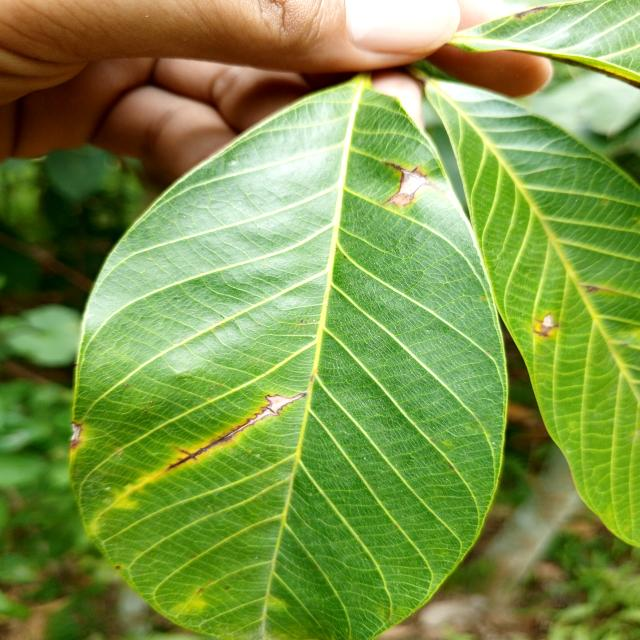Corynespora: (167, 392, 307, 469), (382, 162, 447, 206), (532, 313, 557, 337)
Leaf-Blight: (400, 171, 426, 194), (70, 423, 80, 441)
